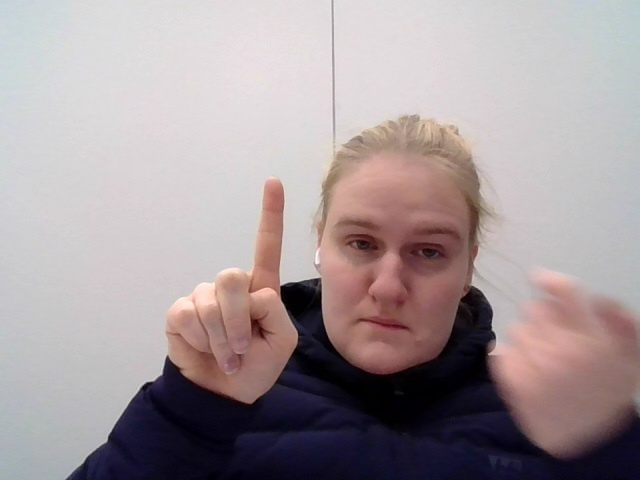up: (140, 171, 312, 428)
